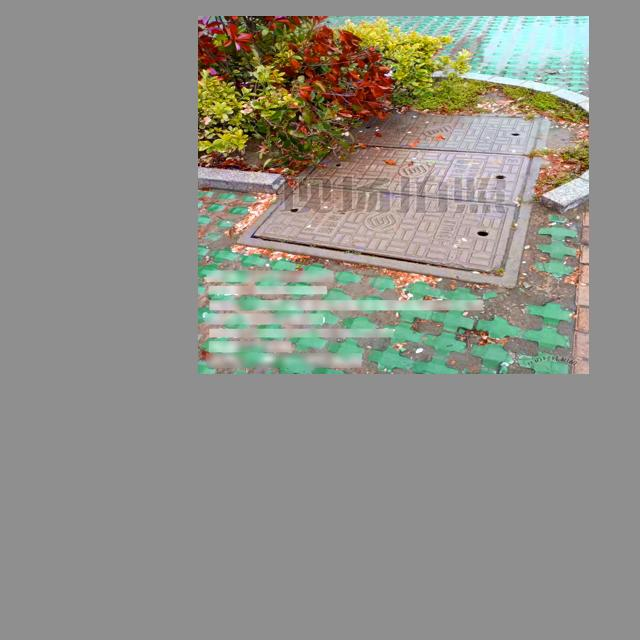good: (236, 113, 551, 286)
